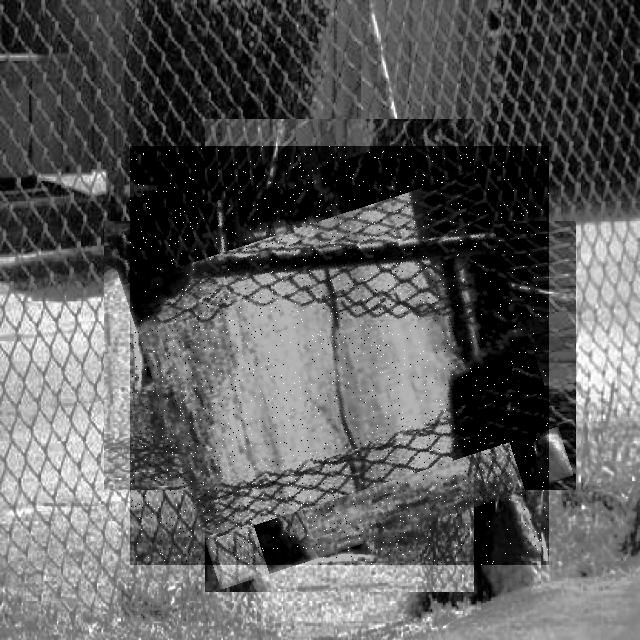anomaly-fence: (130, 146, 549, 565)
